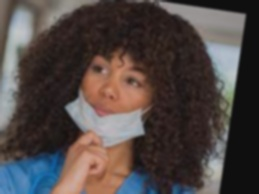mask_weared_incorrect: (71, 35, 155, 147)
